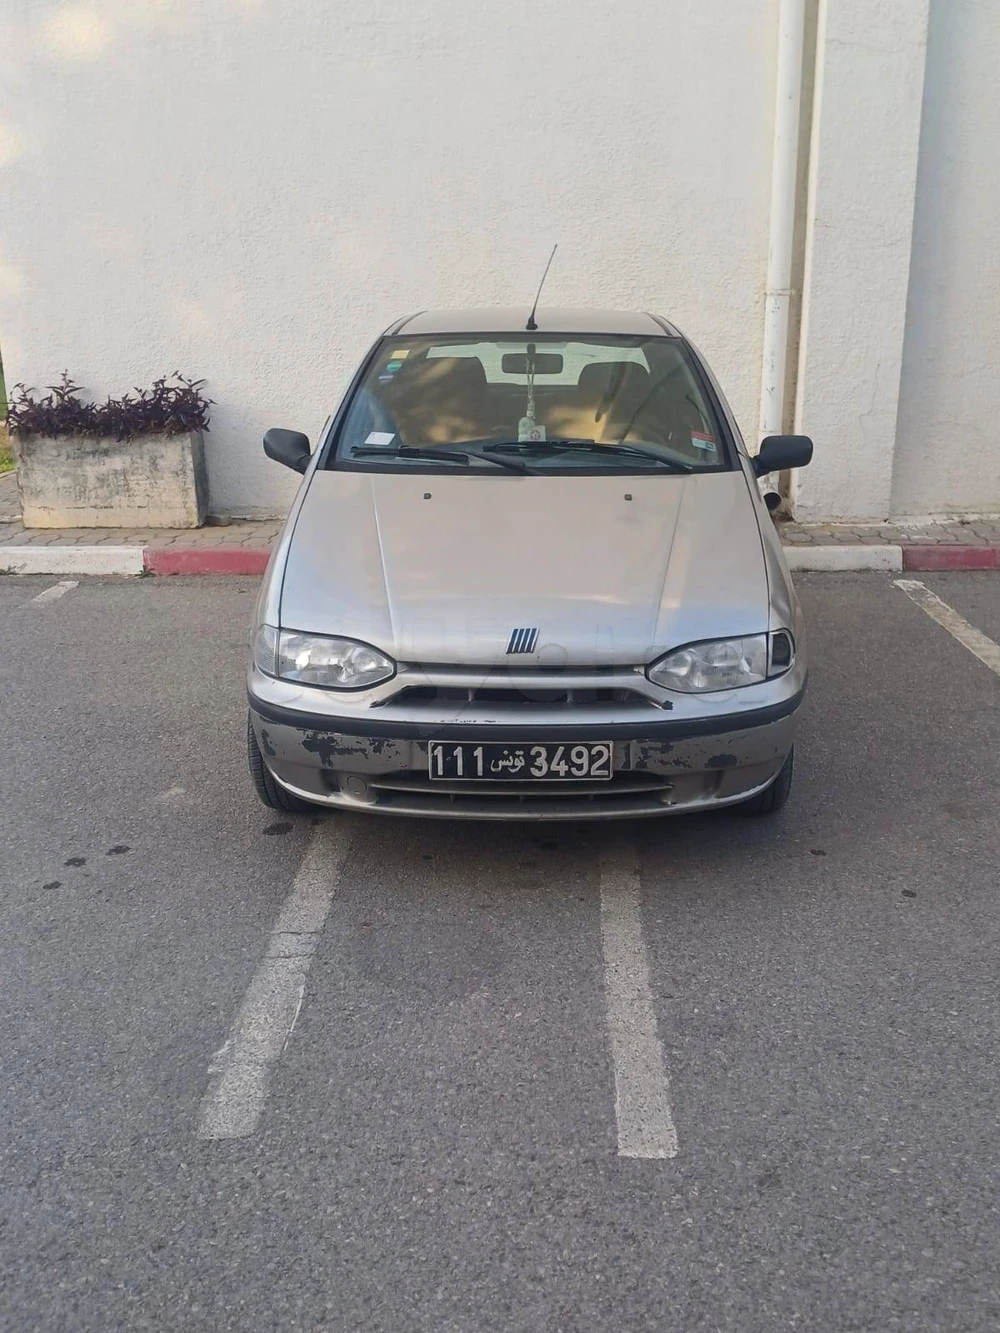fiat: (252, 296, 805, 857)
